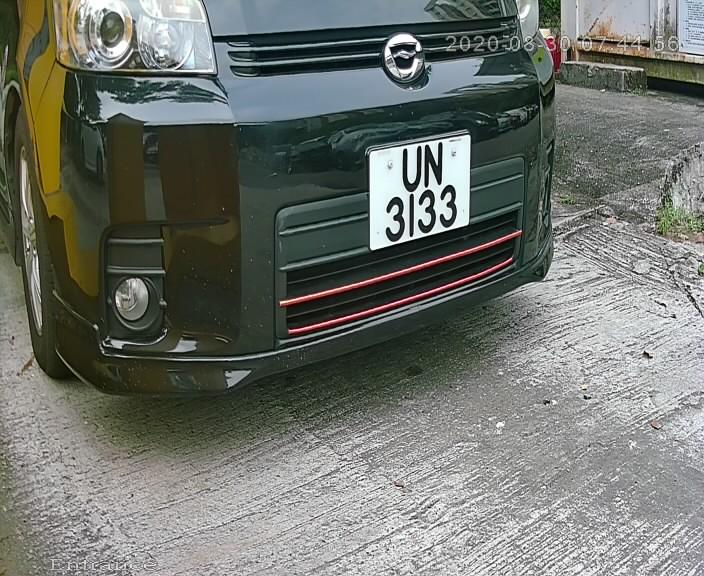License Plate: (359, 121, 481, 265)
